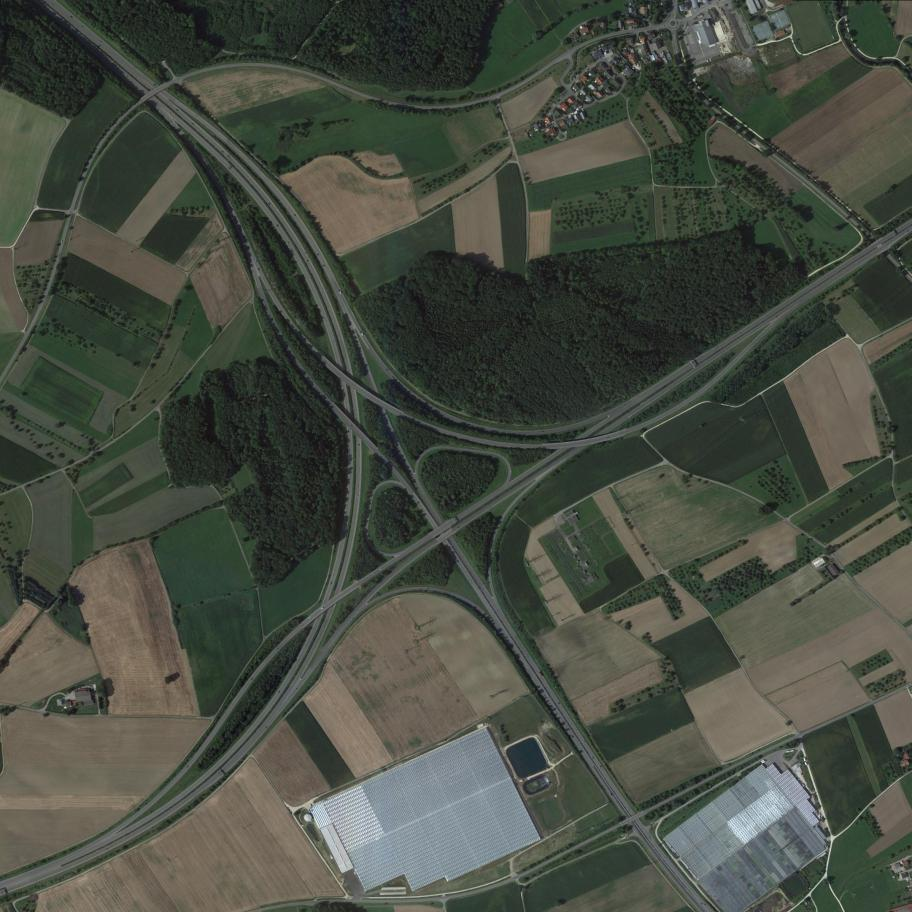storage-tank: (303, 813, 313, 822)
